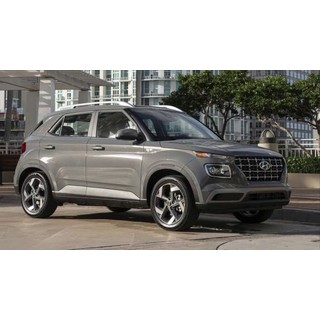car: (12, 103, 293, 228)
